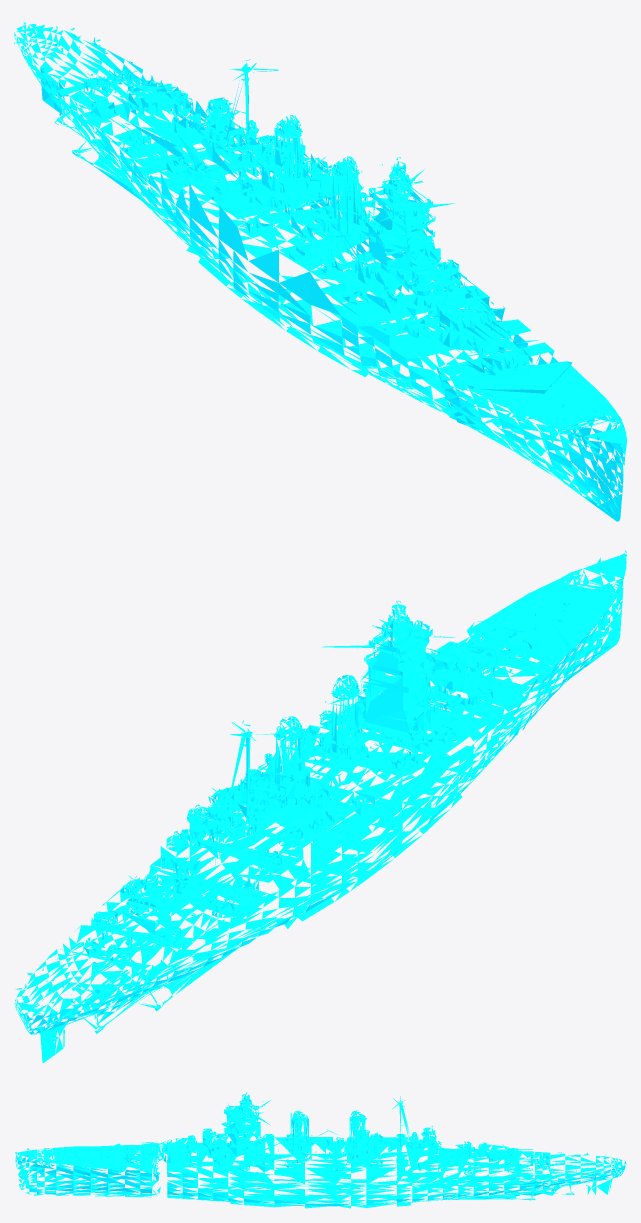
Rendered from Carnot.glb.
3 views of the same model, one above another, from view 1: azimuth 30°, elevation 25°; view 2: azimuth 150°, elevation 25°; view 3: azimuth 270°, elevation 25° (orthographic). The views are drawn at different scales.
Size of the model in its own units: 2.03 by 3.18 by 16.98.
